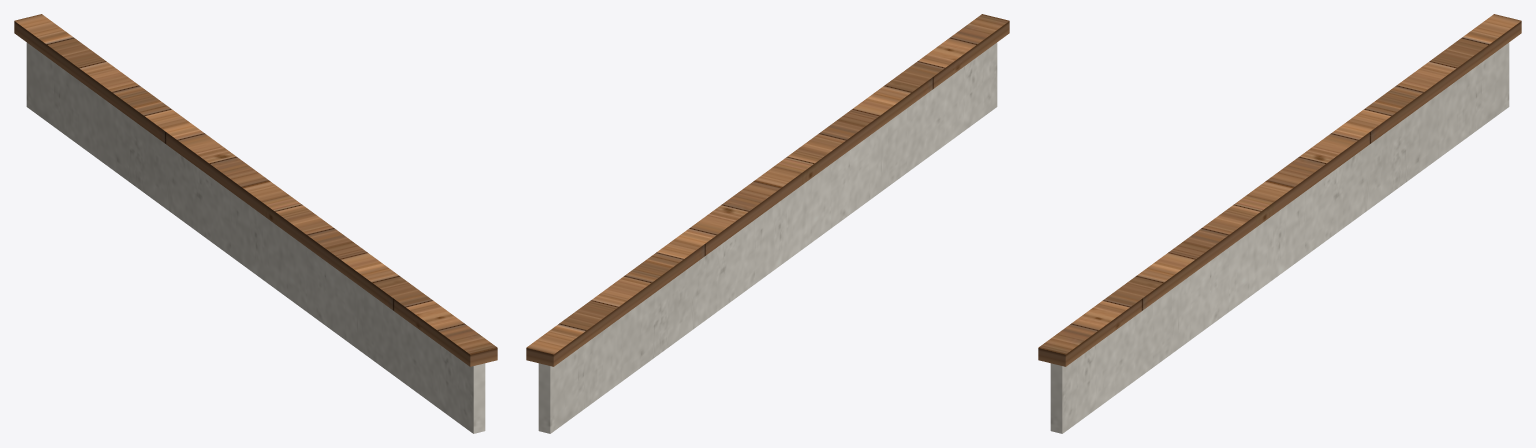
The model's file is floor_wood_u_e0_15_0_0_h2.glb.
The picture shows the model from 3 angles, left to right: view 1: azimuth 30°, elevation 25°; view 2: azimuth 150°, elevation 25°; view 3: azimuth 330°, elevation 25°; orthographic projection.
Visible parts, largest first — view 1: floor_wood_u_e0_15_0_0_h2_plaster, floor_wood_u_e0_15_0_0_h2_floor; view 2: floor_wood_u_e0_15_0_0_h2_plaster, floor_wood_u_e0_15_0_0_h2_floor; view 3: floor_wood_u_e0_15_0_0_h2_plaster, floor_wood_u_e0_15_0_0_h2_floor.
Part boxes in pixels (left/top/right/bottom): floor_wood_u_e0_15_0_0_h2_plaster: left=26, top=42, right=485, bottom=433; floor_wood_u_e0_15_0_0_h2_floor: left=14, top=14, right=497, bottom=366; floor_wood_u_e0_15_0_0_h2_plaster: left=538, top=42, right=997, bottom=433; floor_wood_u_e0_15_0_0_h2_floor: left=526, top=14, right=1009, bottom=366; floor_wood_u_e0_15_0_0_h2_plaster: left=1050, top=42, right=1509, bottom=433; floor_wood_u_e0_15_0_0_h2_floor: left=1038, top=14, right=1521, bottom=366.
Bounding box in the file's own units: 0.07 × 0.205 × 2.
Materials: 2 (2 with a texture image).
